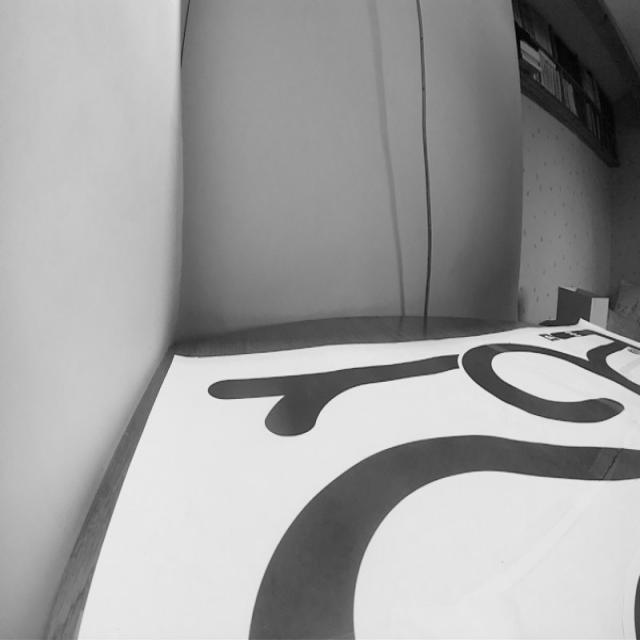laneRightTurn: (238, 448, 418, 640)
